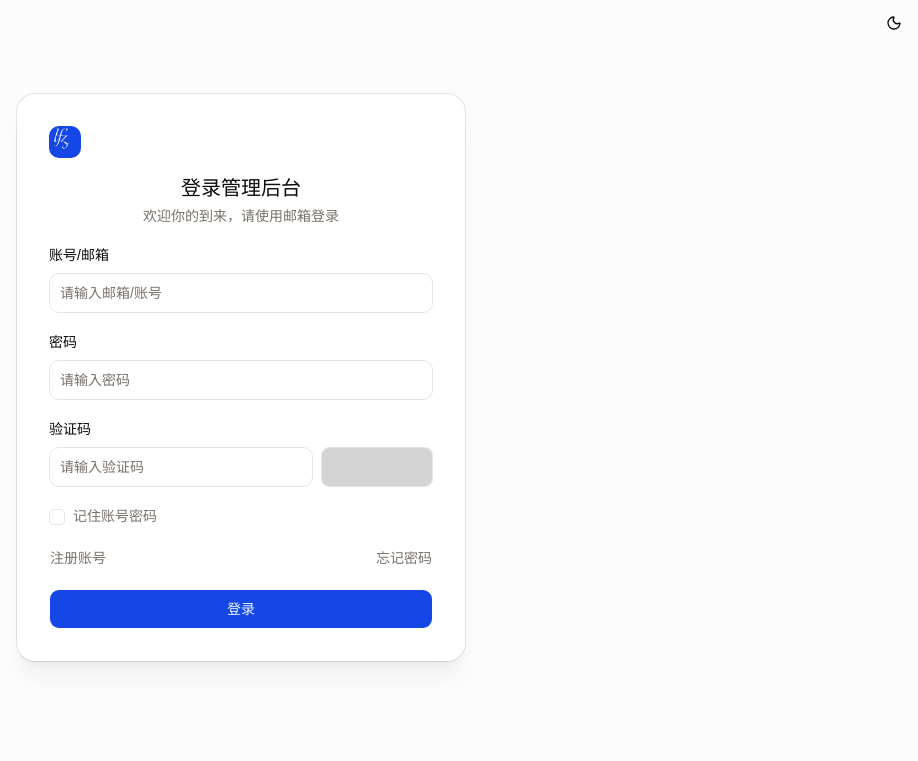
Test case: LoginFeature › sends register verification code via real service and starts countdown
The width and height of the screenshot is (918, 761).
Click the button "注册账号". click: (78, 558)
box: x1=49 y1=546 x2=107 y2=568
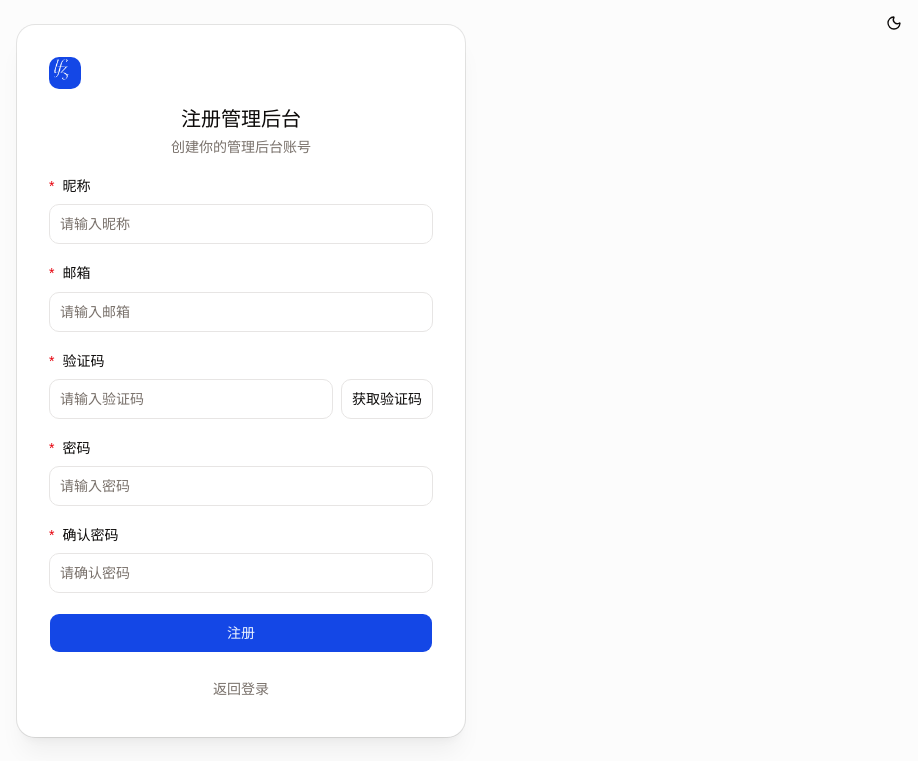
Type "admin@example.com" into the field labelled "* 邮箱". click: (241, 312)
box: x1=49 y1=292 x2=433 y2=332
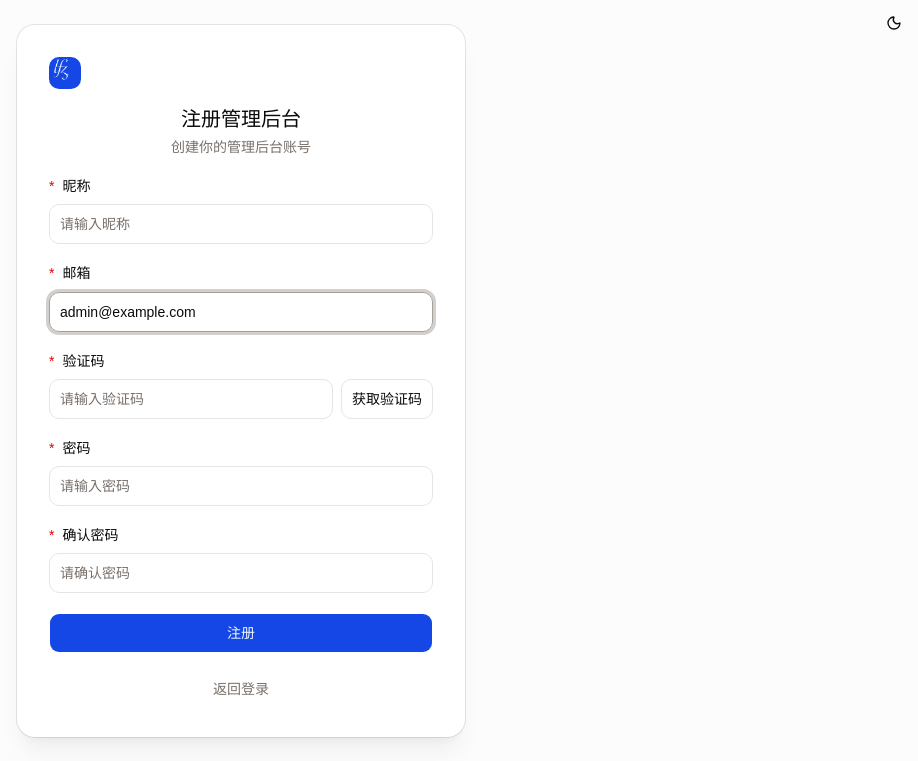
Click the button "获取验证码". click: (387, 399)
box: x1=341 y1=379 x2=433 y2=419
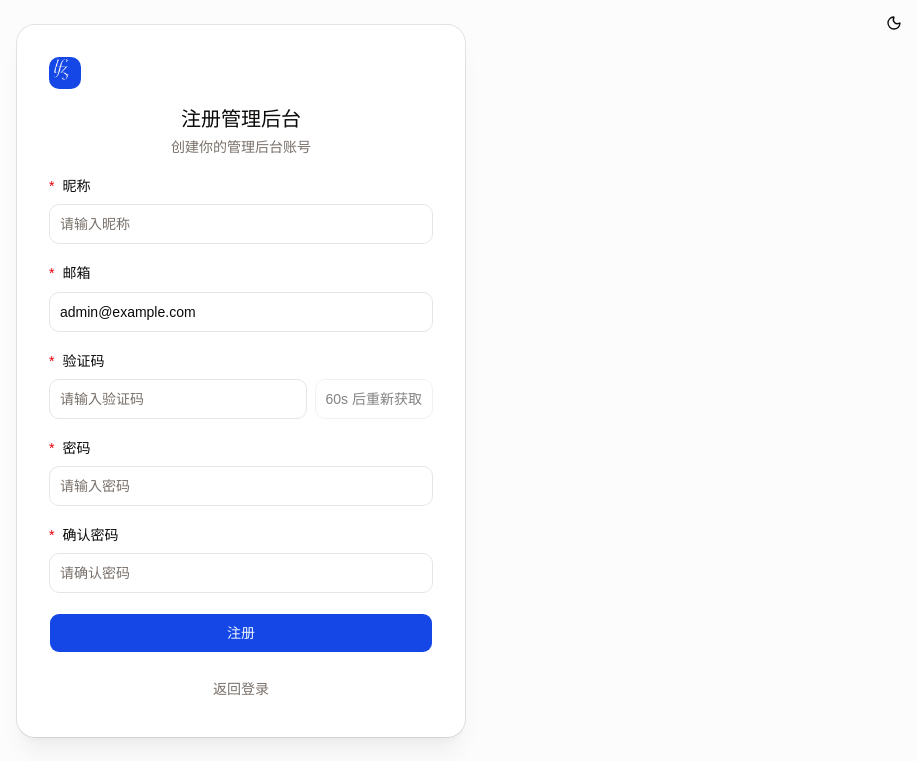
Expected: the button "60s 后重新获取" is disabled, x1=314 y1=379 x2=433 y2=419
